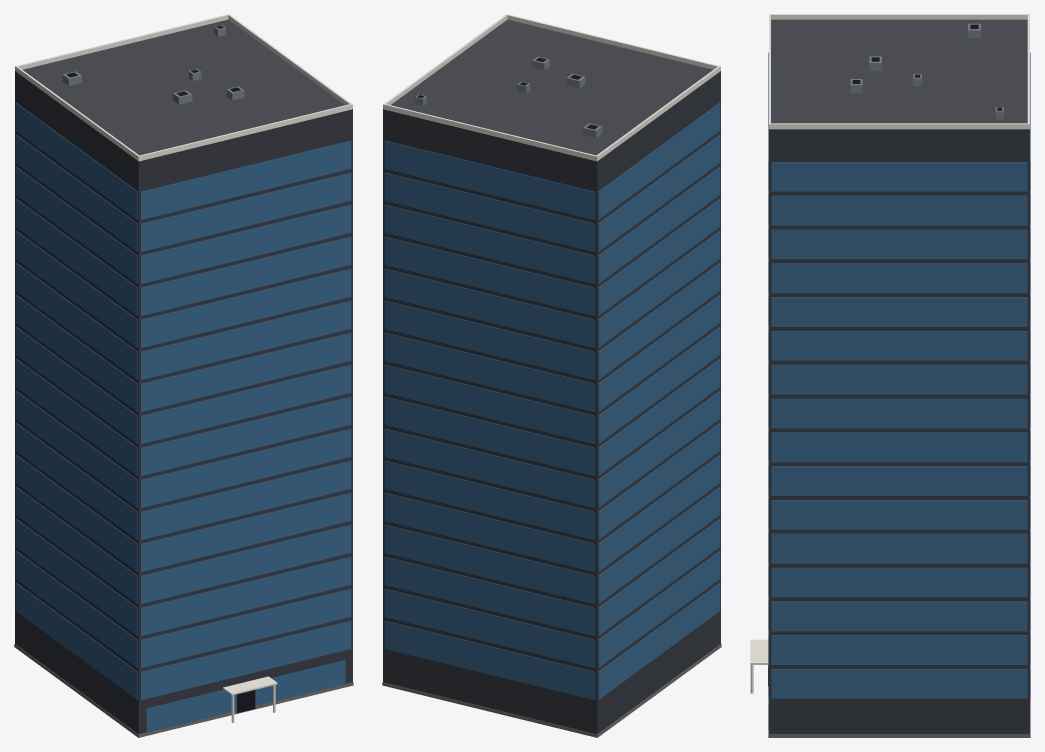
File: tower_a.glb
The picture shows the model from 3 angles, left to right: view 1: azimuth 30°, elevation 25°; view 2: azimuth 150°, elevation 25°; view 3: azimuth 270°, elevation 25°; orthographic projection. The views are drawn at different scales.
Parts seen in each view (by area): view 1: tower_a_Body; view 2: tower_a_Body; view 3: tower_a_Body.
Part boxes in pixels (x1,y1,x2,y2): tower_a_Body: (14,14,353,737); tower_a_Body: (382,14,721,737); tower_a_Body: (750,14,1030,737).
Bounding box in the file's own units: 28.16 × 73 × 30.08.
